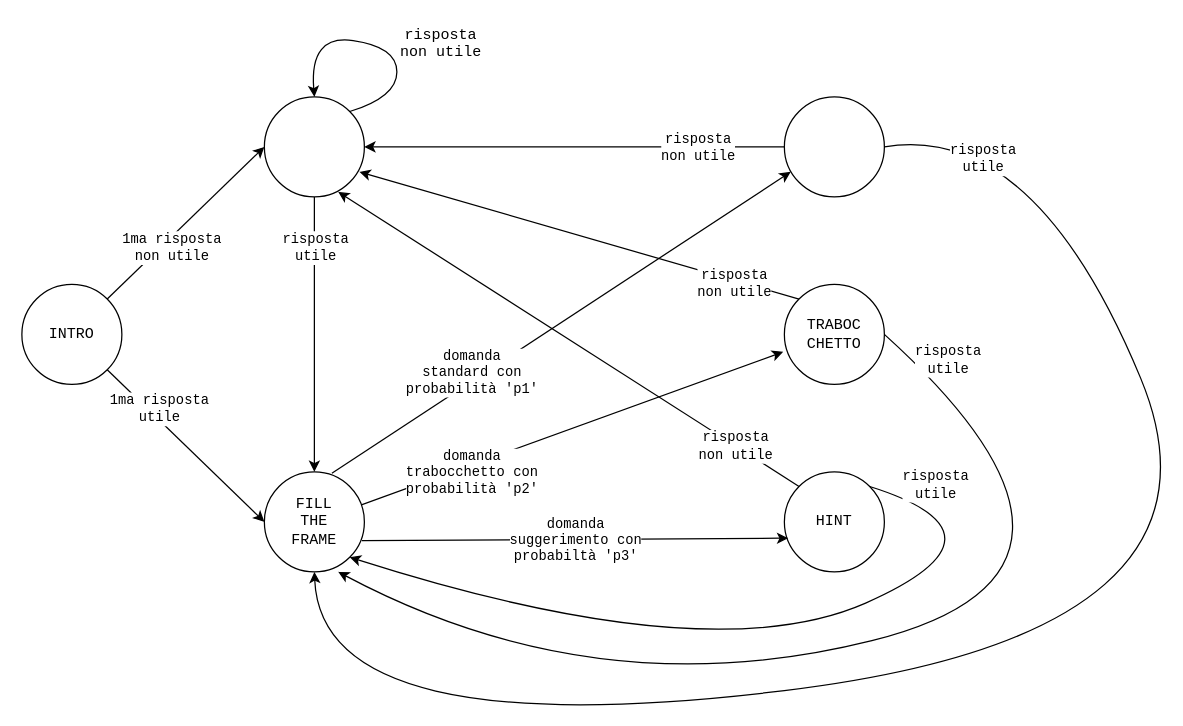
The diagram is 1183 pixels wide and 726 high, and some of its shapes have lost their labels. Here are the shapes that lost their labels. From the top down, the centre of each, then its label:
At point (313, 146): "NOT USEFUL".
At point (833, 146): "QUESTIONS".
